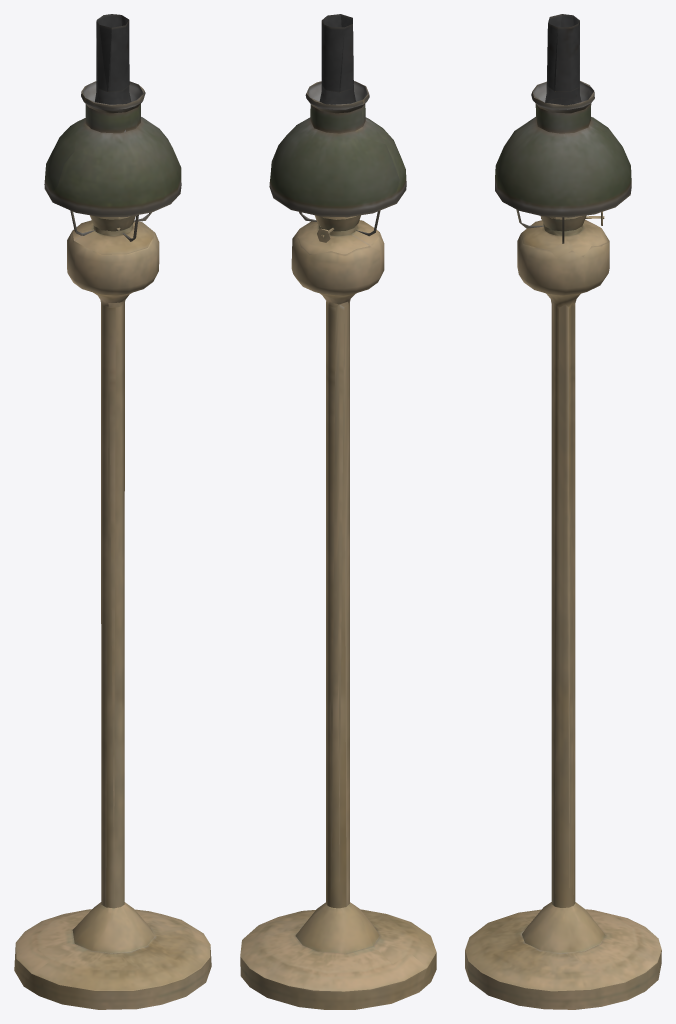
The model's file is lamp-oil-hall-b.lod1.glb.
3 renders of one model, left to right at view 1: azimuth 30°, elevation 25°; view 2: azimuth 150°, elevation 25°; view 3: azimuth 270°, elevation 25°, orthographic.
Visible parts, largest first — view 1: lamp-oil-hall-b; view 2: lamp-oil-hall-b; view 3: lamp-oil-hall-b.
Boxes of the visible parts, box(x1,y1,x2,y2) form: lamp-oil-hall-b: box(14, 14, 211, 1009); lamp-oil-hall-b: box(240, 14, 436, 1009); lamp-oil-hall-b: box(465, 14, 661, 1009).
Bounding box in the file's own units: 0.2759 × 1.47 × 0.2761.
1 material, 1 textured.
